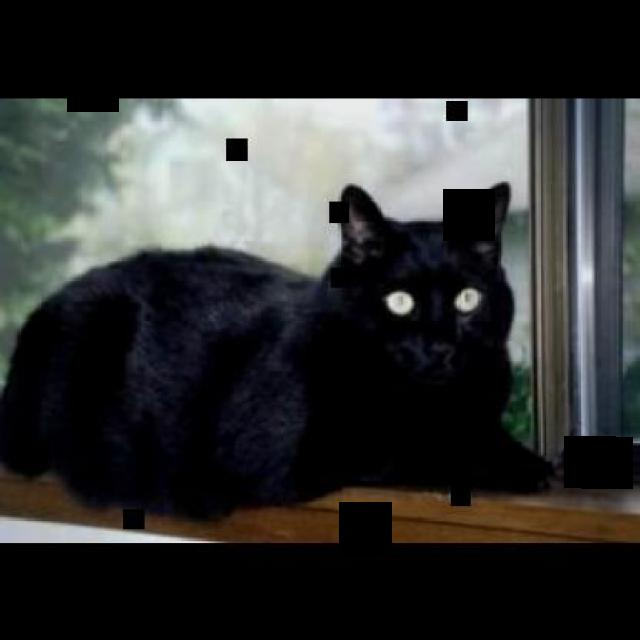unauthorized: (0, 178, 555, 521)
